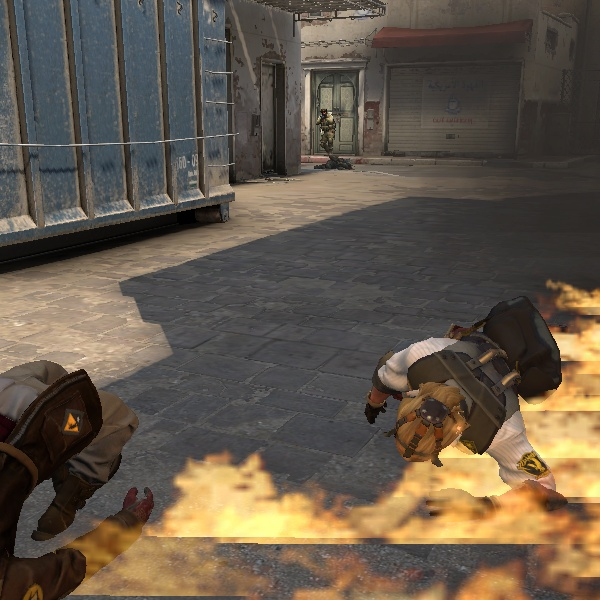ct_body: (312, 104, 338, 157)
ct_head: (319, 105, 330, 118)
